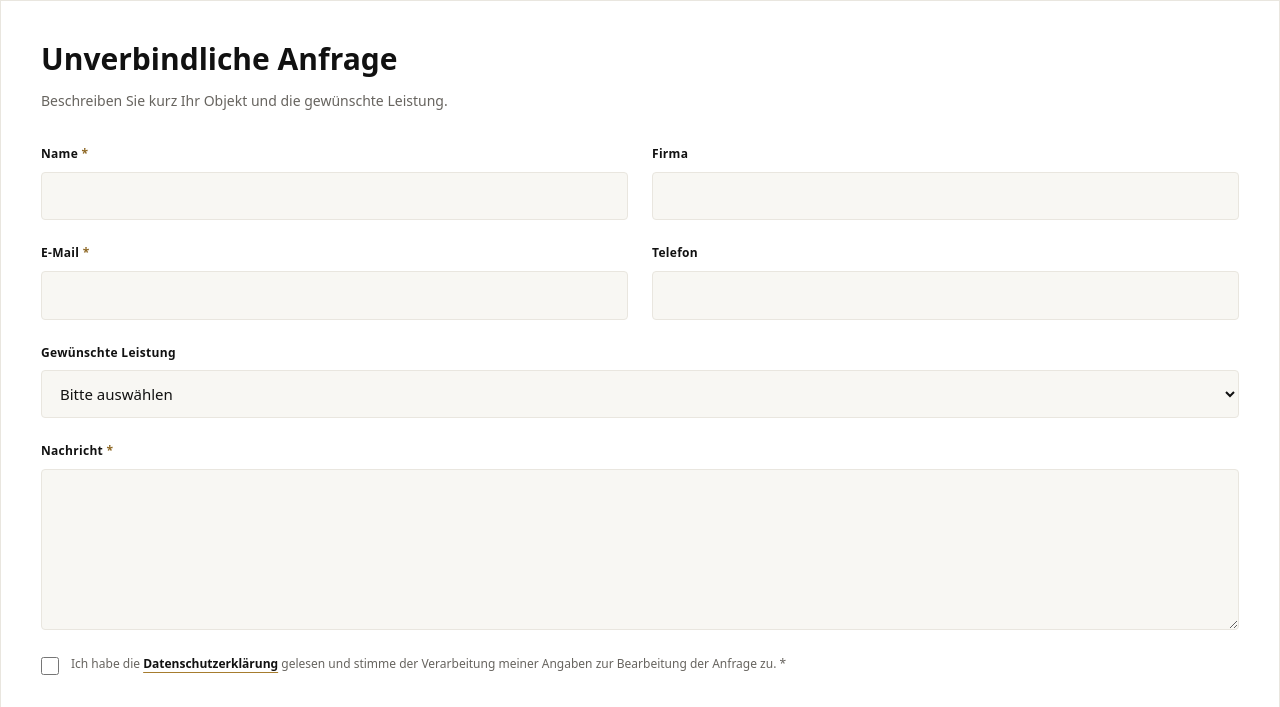
Test: ContactForm › resets the fields and announces the exact German success message
In the field labelled "Name *": (334, 196) [41, 172, 628, 220], type "Erika Muster"
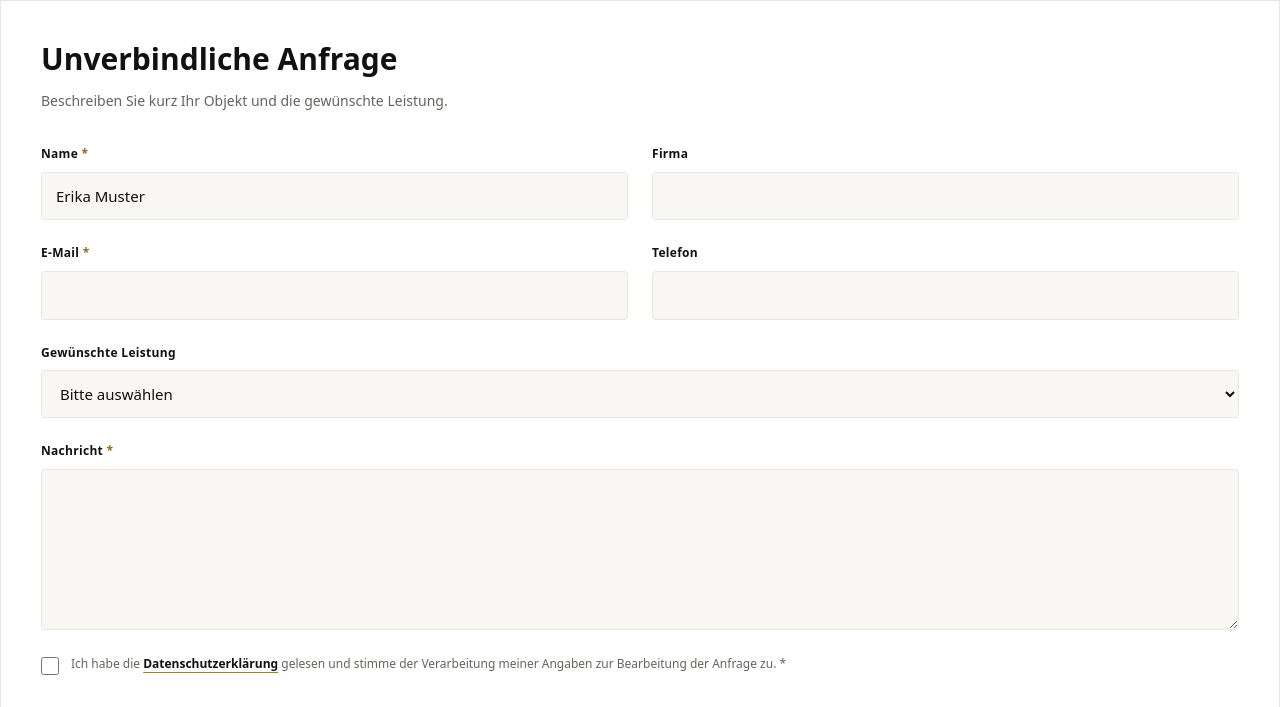
Click the checkbox: click(50, 666) [41, 657, 59, 675]
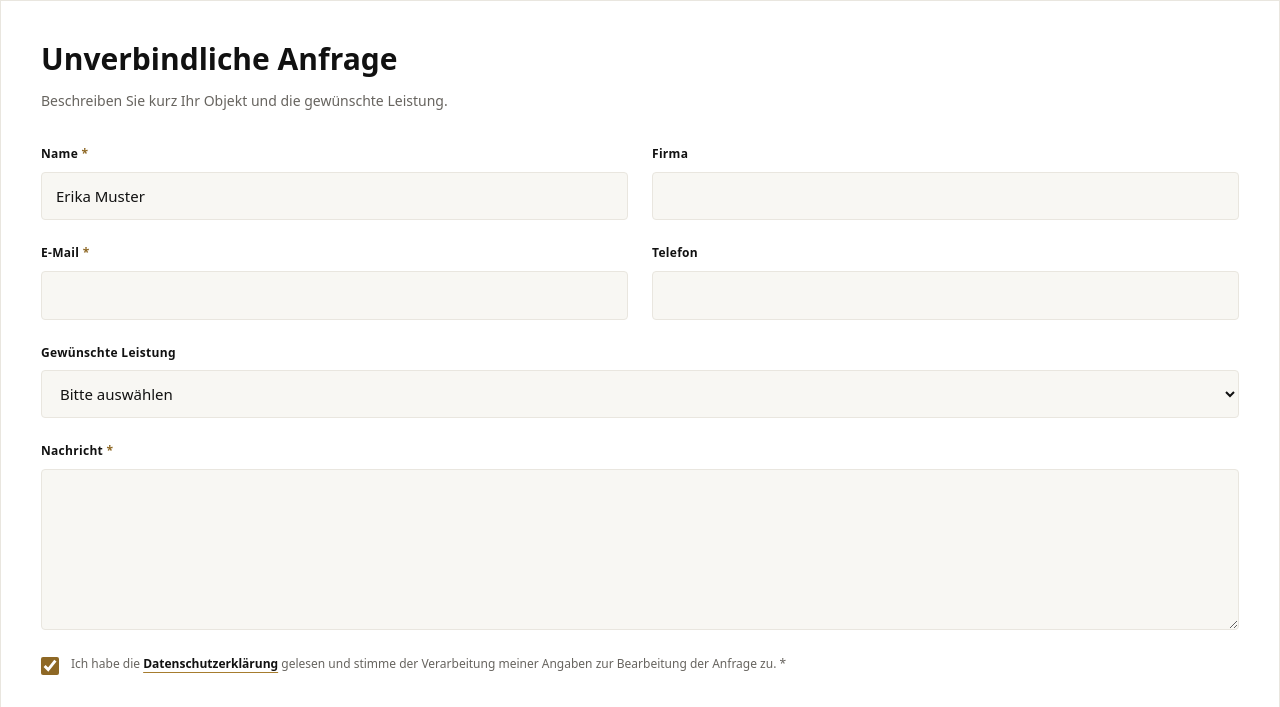
Submit the form
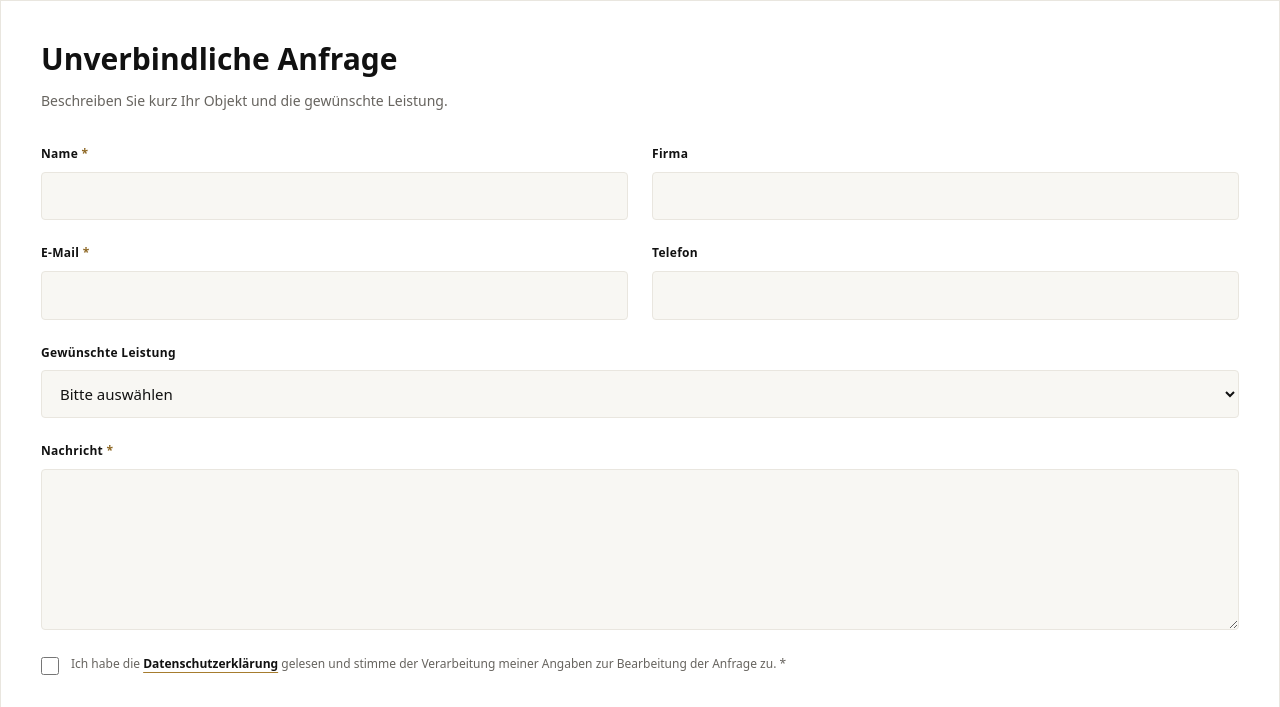
Result: the checkbox is not checked at [41, 657, 59, 675]
Result: the field labelled "Name *" is empty at [41, 172, 628, 220]
